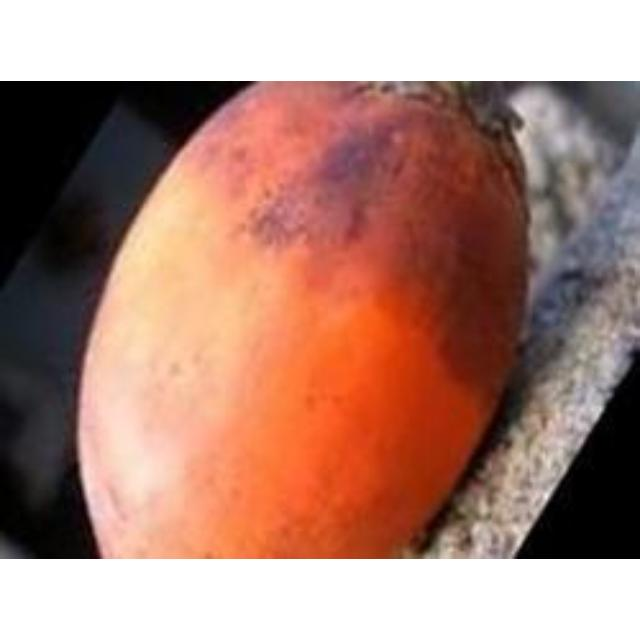good: (74, 81, 530, 557)
